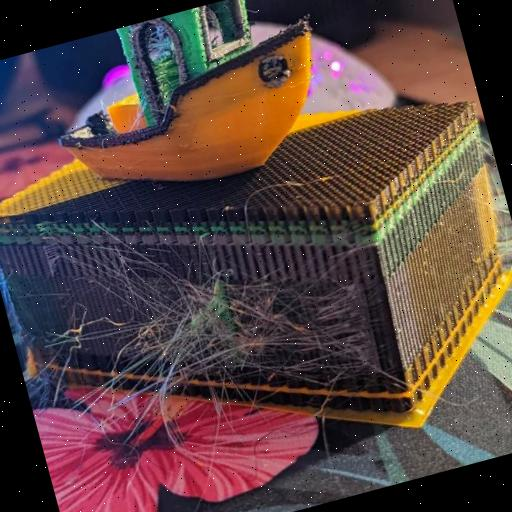stringing: (128, 247, 324, 406)
